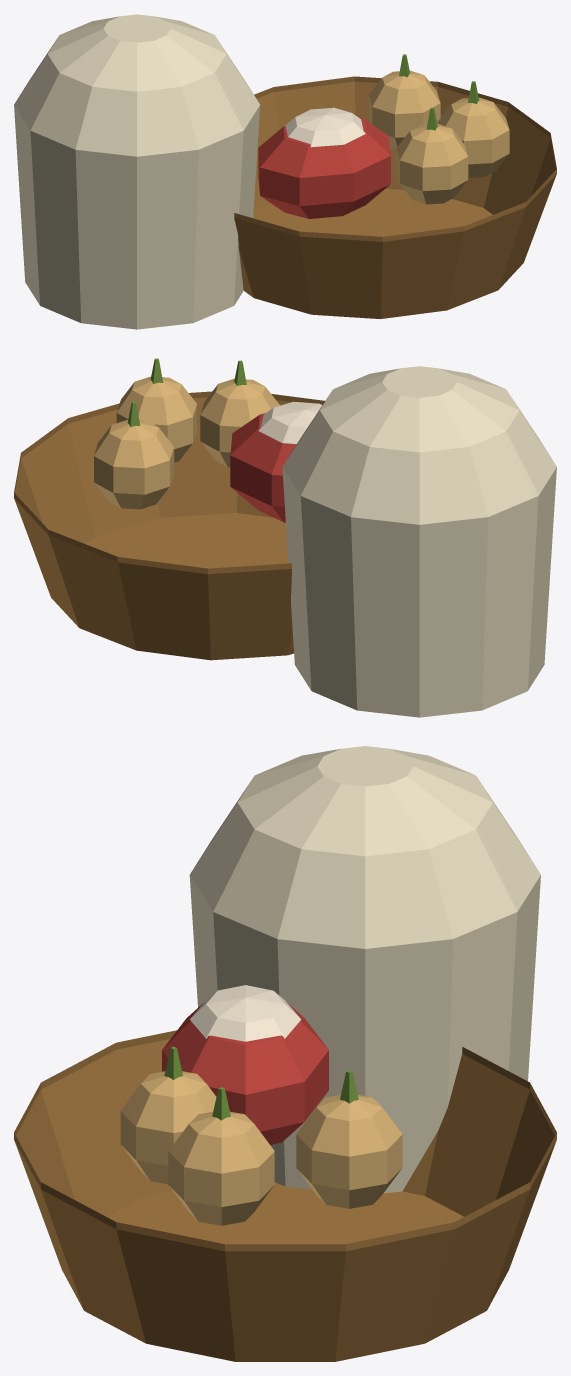
The model's file is Cook_Groceries.obj.
3 renders of one model, top to bottom at view 1: azimuth 30°, elevation 25°; view 2: azimuth 150°, elevation 25°; view 3: azimuth 270°, elevation 25°, orthographic. The views are drawn at different scales.
Visible parts, largest first — view 1: Cook_Groceries; view 2: Cook_Groceries; view 3: Cook_Groceries.
Part boxes in pixels (x1=…): Cook_Groceries: x1=14, y1=14, x2=556, y2=329; Cook_Groceries: x1=14, y1=358, x2=556, y2=717; Cook_Groceries: x1=14, y1=746, x2=556, y2=1361.
Size of the model in its own units: 0.9715 by 0.5 by 0.68.
